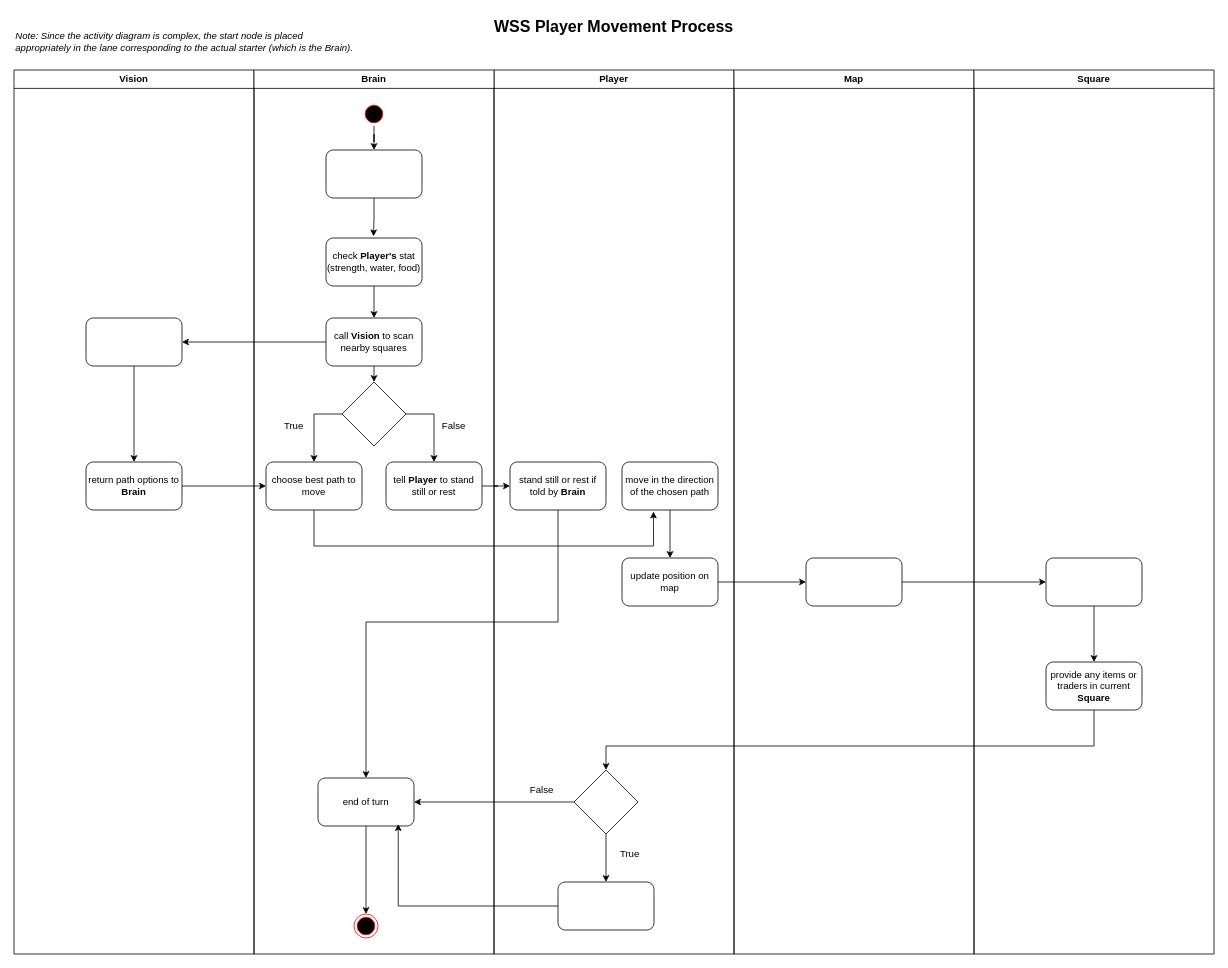
The diagram is 1228 pixels wide and 968 high, and some of its shapes have lost their labels. Here are the shapes that lost their labels. From the top down, the box of each, then its label:
(325, 149, 422, 198): begin turn
(85, 317, 182, 366): scans nearby squares for possible path
(341, 381, 406, 446): Enough resources to move?
(805, 557, 902, 606): update Player's position on map grid
(1045, 557, 1142, 606): apply terrain effects (energy, food, and water loss)
(573, 769, 638, 834): check if still alive
(557, 881, 654, 930): collect items/ start trade with a trader
